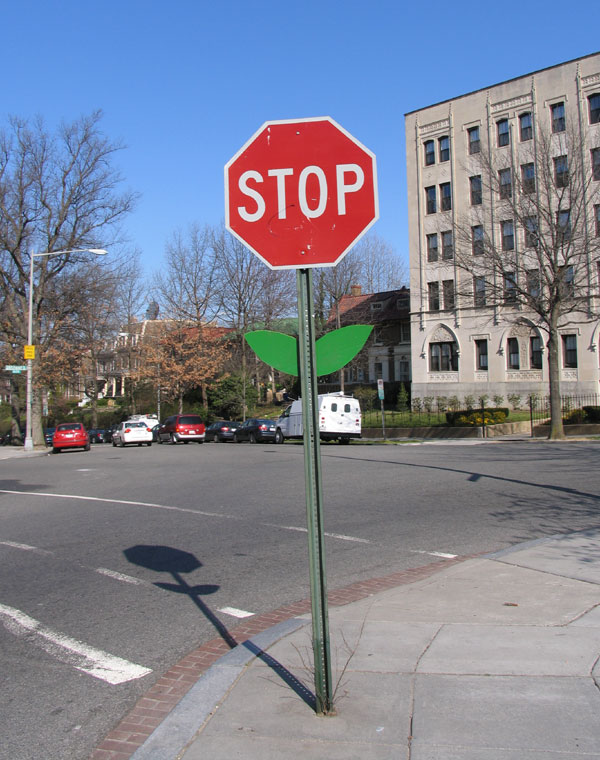stop: (221, 112, 379, 270)
